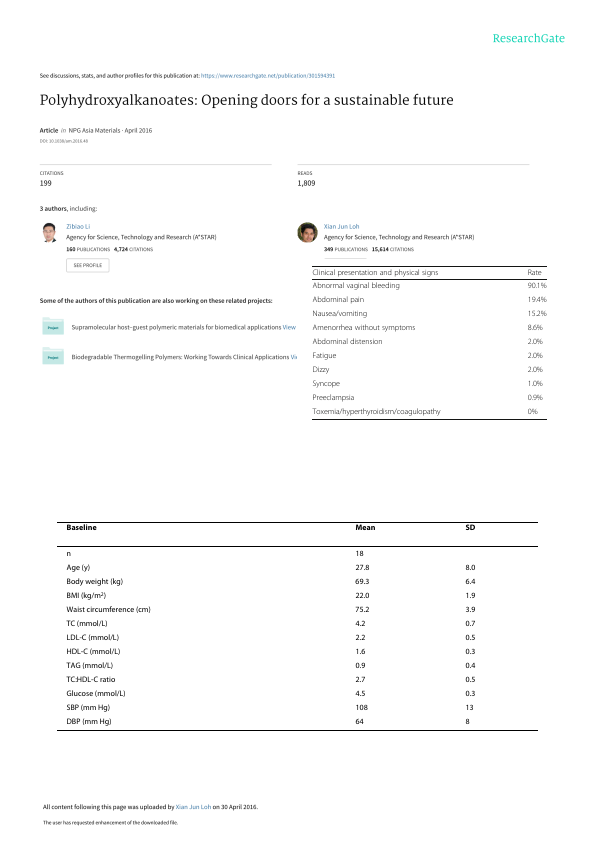borderless: (56, 520, 538, 730), (311, 264, 547, 419)
cell: (311, 407, 441, 417), (312, 268, 439, 277), (312, 323, 416, 333), (312, 281, 401, 291), (66, 605, 152, 615), (312, 337, 384, 347), (66, 689, 127, 699), (66, 577, 124, 587), (312, 309, 368, 319), (66, 647, 121, 657), (66, 633, 120, 643), (312, 295, 365, 305), (66, 675, 116, 685), (66, 661, 114, 671), (66, 717, 112, 727), (66, 703, 111, 713), (312, 393, 355, 403), (66, 619, 108, 629), (66, 591, 107, 601), (312, 379, 341, 389), (66, 523, 98, 531), (312, 351, 337, 361), (66, 563, 91, 573), (527, 281, 547, 291), (527, 295, 547, 305), (527, 309, 547, 319), (312, 365, 330, 375), (354, 523, 376, 531), (527, 323, 544, 333), (527, 337, 544, 347), (527, 351, 544, 361), (527, 365, 544, 375), (527, 379, 544, 389), (527, 393, 544, 403), (354, 563, 370, 573), (354, 577, 370, 587), (354, 591, 370, 601), (354, 605, 370, 615), (354, 703, 369, 713), (527, 268, 543, 277), (464, 563, 476, 573), (464, 577, 476, 587), (464, 591, 476, 601), (464, 605, 476, 615), (354, 619, 366, 629), (464, 619, 476, 629), (354, 633, 366, 643), (464, 633, 476, 643), (354, 647, 366, 657), (464, 647, 476, 657), (354, 661, 366, 671), (464, 661, 476, 671), (354, 675, 366, 685), (464, 675, 476, 685), (354, 689, 366, 699), (527, 407, 538, 417), (354, 549, 365, 559), (465, 689, 476, 699), (464, 703, 475, 713), (354, 717, 365, 727), (464, 523, 476, 531), (464, 717, 471, 727), (66, 549, 72, 559)
